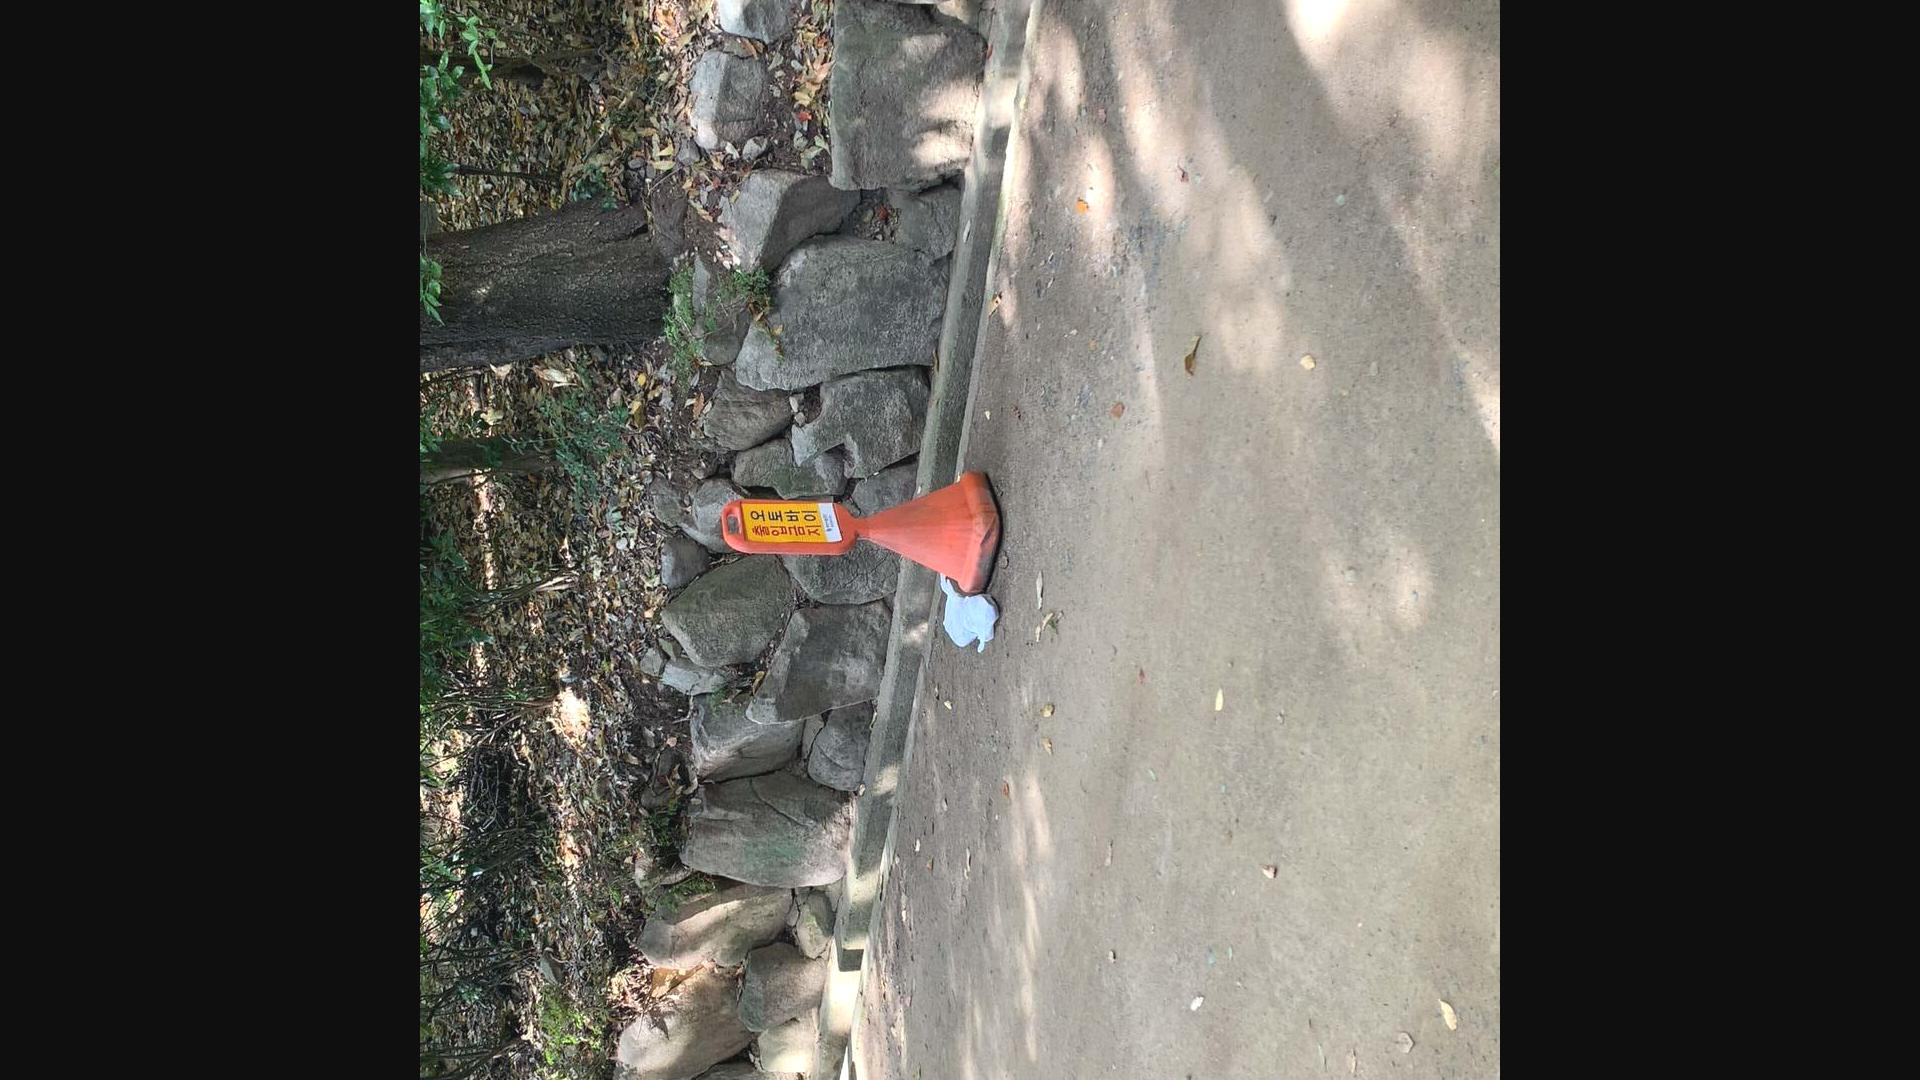white_bag: (934, 568, 1009, 663)
